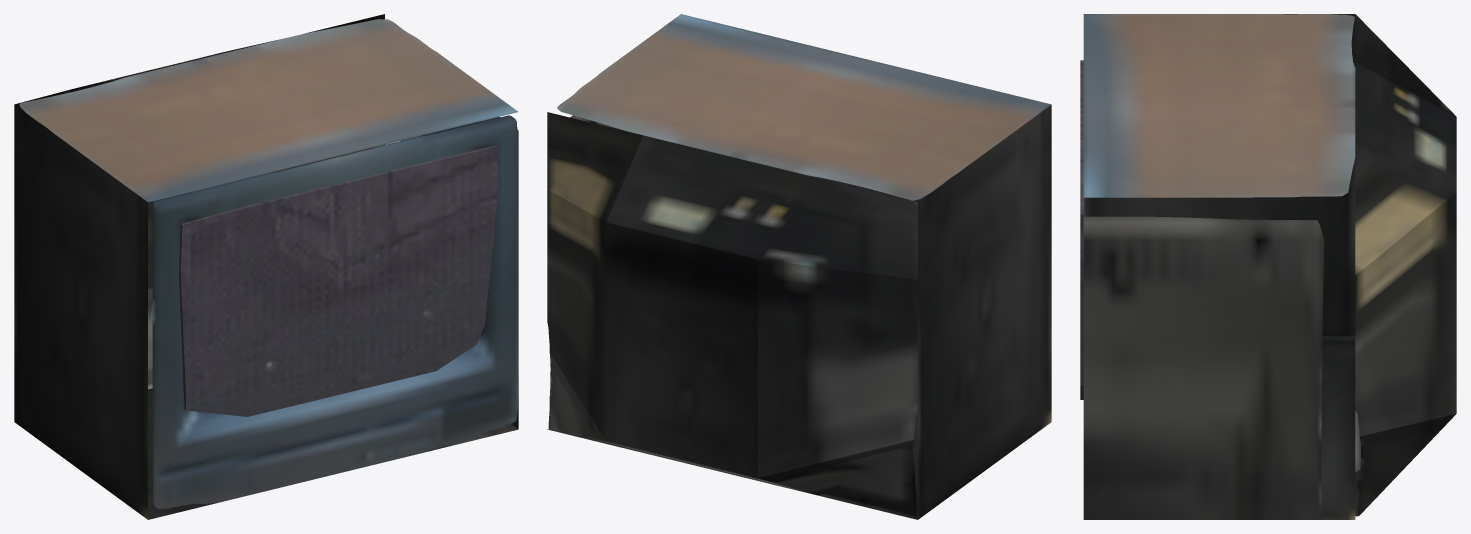
File: TV old.fbx
The picture shows the model from 3 angles, left to right: view 1: azimuth 30°, elevation 25°; view 2: azimuth 150°, elevation 25°; view 3: azimuth 270°, elevation 25°; orthographic projection.
Parts seen in each view (by area): view 1: PSX style tv, Screen; view 2: PSX style tv; view 3: PSX style tv, Screen.
Boxes of the visible parts, <box> form: PSX style tv: <box>14,14,518,519</box>; Screen: <box>179,145,498,416</box>; PSX style tv: <box>547,14,1051,519</box>; PSX style tv: <box>1083,14,1456,519</box>; Screen: <box>1080,60,1085,399</box>.
Size of the model in its own units: 225 by 184 by 195.
2 materials, 2 textured.
